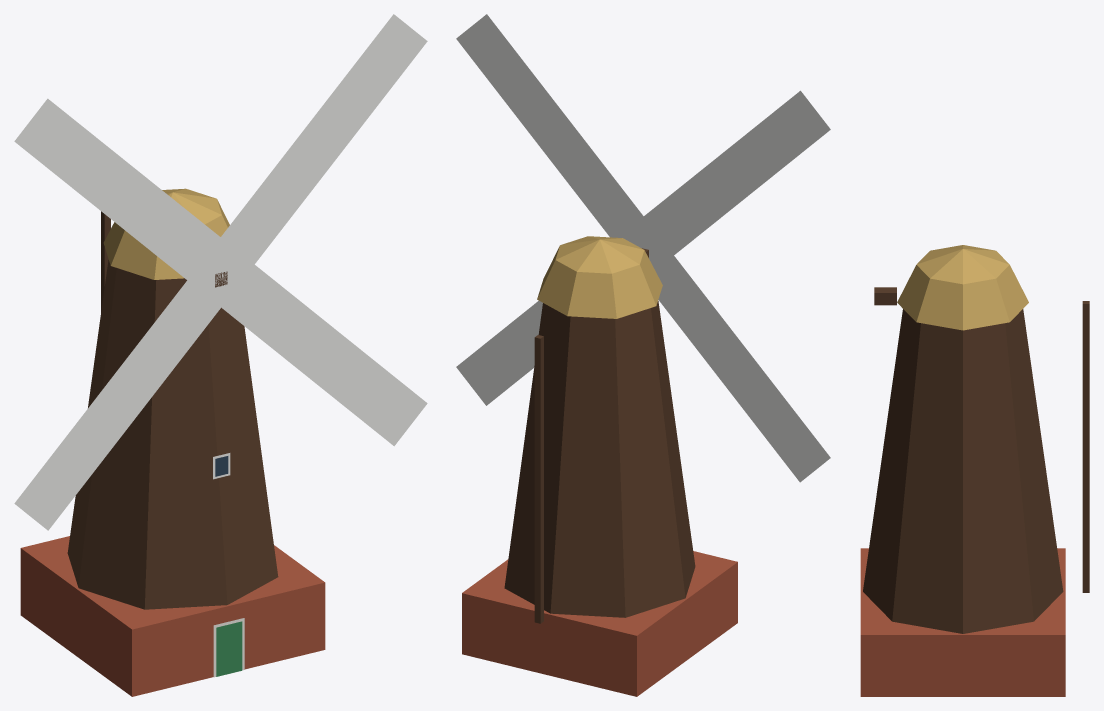
The model's file is moulin_vent.glb.
3 views of the same model, side by side, from view 1: azimuth 30°, elevation 25°; view 2: azimuth 150°, elevation 25°; view 3: azimuth 270°, elevation 25° (orthographic). The views are drawn at different scales.
Parts seen in each view (by area): view 1: moulin_vent; view 2: moulin_vent; view 3: moulin_vent.
Boxes of the visible parts, bbox=[...] form: moulin_vent: bbox=[14, 14, 427, 696]; moulin_vent: bbox=[456, 14, 830, 696]; moulin_vent: bbox=[860, 245, 1089, 696].
Bounding box in the file's own units: 19.23 × 27.22 × 10.1.
Materials: 1 (1 with a texture image).
